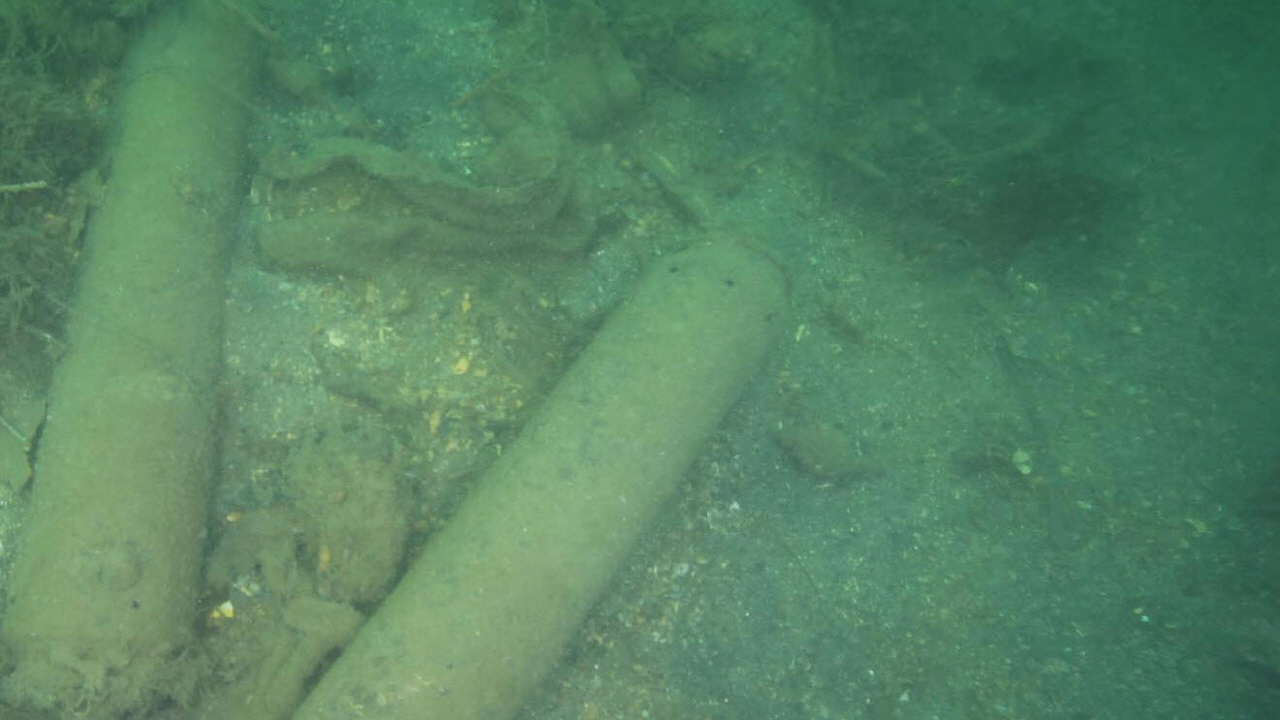eel fish trap: (289, 236, 793, 720), (0, 0, 264, 720)
